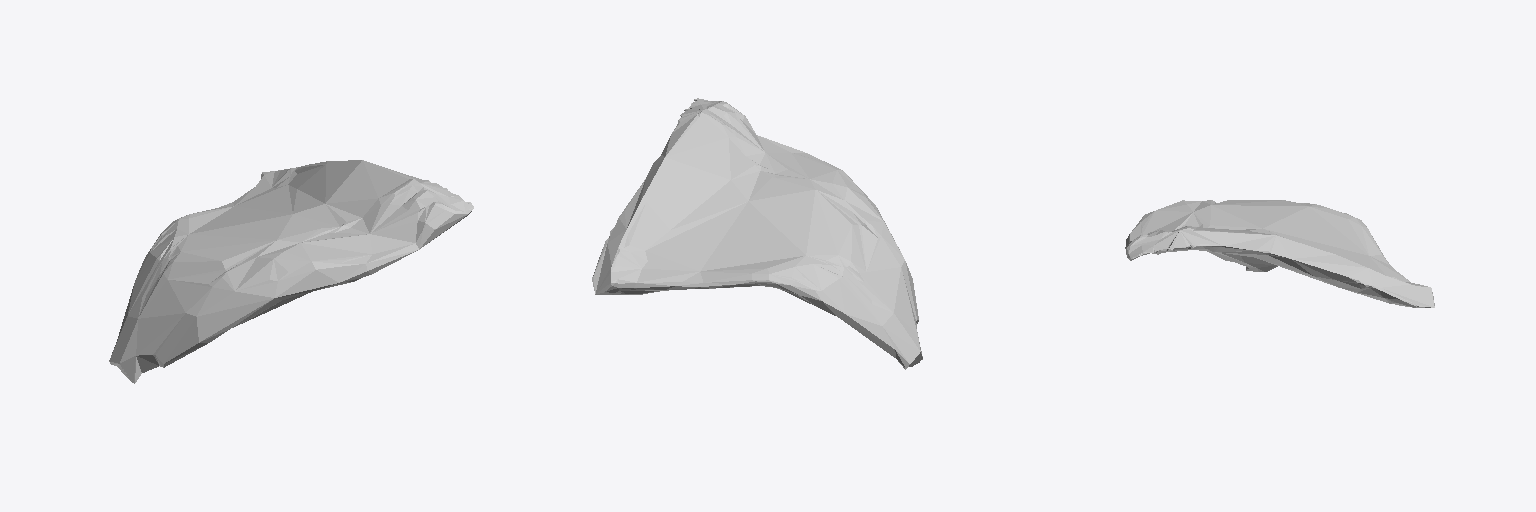
File: transverse head of adductor pollicis.obj
3 views of the same model, side by side, from view 1: azimuth 30°, elevation 25°; view 2: azimuth 150°, elevation 25°; view 3: azimuth 270°, elevation 25° (orthographic).
Parts seen in each view (by area): view 1: grp1; view 2: grp1; view 3: grp1.
Part boxes in pixels (left/top/right/bottom): grp1: left=109, top=160, right=473, bottom=383; grp1: left=592, top=98, right=922, bottom=369; grp1: left=1125, top=200, right=1434, bottom=307.
Size of the model in its own units: 41.13 by 22.51 by 38.07.